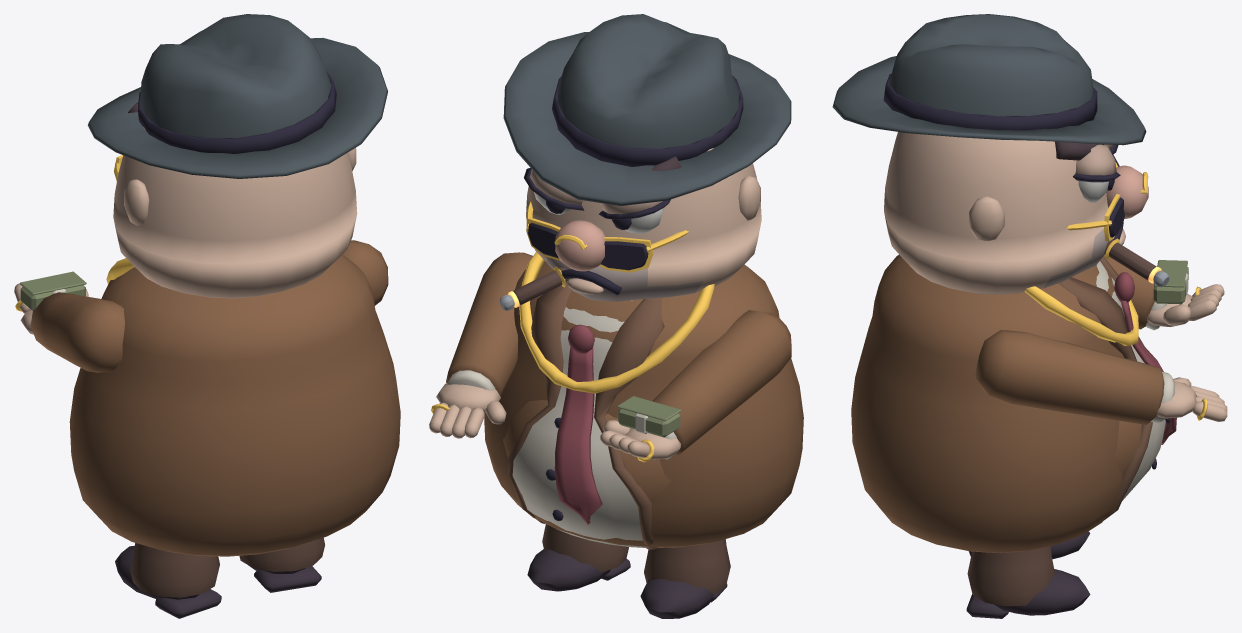
The model's file is boss.glb.
The picture shows the model from 3 angles, left to right: view 1: azimuth 30°, elevation 25°; view 2: azimuth 150°, elevation 25°; view 3: azimuth 270°, elevation 25°; orthographic projection. The views are drawn at different scales.
Parts seen in each view (by area): view 1: Torso, Hat, HeadPivot, ArmLeft, FootLeft, FootRight, ArmRight, TopBill, Cash; view 2: Torso, Hat, HeadPivot, ArmLeft, ArmRight, FootLeft, FootRight, Sunglasses, Hand__L, Hand__R, Cigar, Cash (+4 smaller); view 3: Torso, HeadPivot, Hat, ArmRight, FootRight, Hand__L, LidRight, ArmLeft, Cigar, Sunglasses, Hand__R, Cash (+2 smaller).
Part boxes in pixels (x1,y1,x2,y2): Torso: (69, 254, 400, 556); Hat: (87, 14, 387, 178); HeadPivot: (113, 102, 357, 298); ArmLeft: (30, 292, 124, 372); FootLeft: (115, 543, 221, 618); FootRight: (239, 537, 324, 592); ArmRight: (342, 240, 388, 305); TopBill: (19, 271, 86, 295); Cash: (20, 285, 85, 310); Torso: (484, 252, 803, 549); Hat: (503, 14, 791, 205); HeadPivot: (526, 148, 761, 301); ArmLeft: (652, 310, 791, 459); ArmRight: (446, 252, 532, 396); FootLeft: (640, 539, 730, 618); FootRight: (527, 524, 630, 591); Sunglasses: (526, 201, 688, 272); Hand__L: (600, 420, 680, 462); Hand__R: (436, 383, 506, 424); Cigar: (499, 266, 568, 310); Cash: (618, 408, 680, 437); Torso: (851, 254, 1176, 552); HeadPivot: (884, 132, 1148, 294); Hat: (832, 14, 1146, 145); ArmRight: (975, 330, 1174, 424); FootRight: (966, 546, 1090, 618); Hand__L: (1146, 284, 1224, 326); LidRight: (1073, 144, 1120, 182); ArmLeft: (1103, 254, 1166, 330); Cigar: (1104, 238, 1169, 287); Sunglasses: (1066, 155, 1148, 241); Hand__R: (1156, 377, 1197, 418); Cash: (1153, 267, 1188, 304).
Size of the model in its own units: 1.18 by 2.04 by 1.32.
